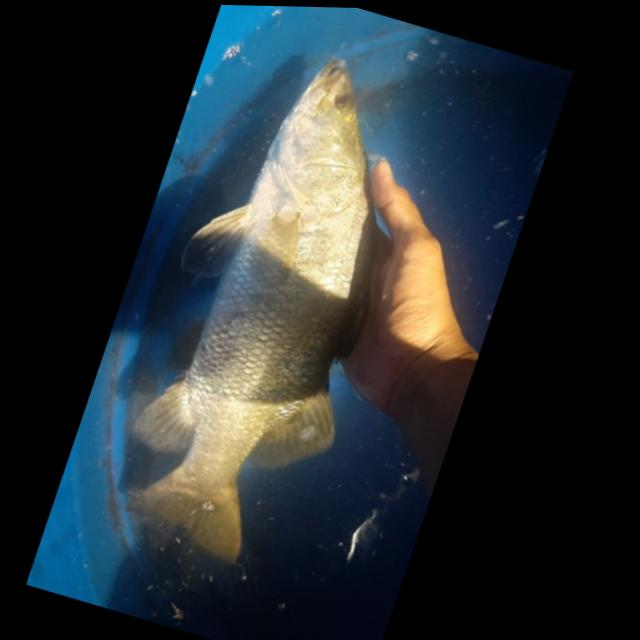Seabass: (78, 26, 456, 599)
